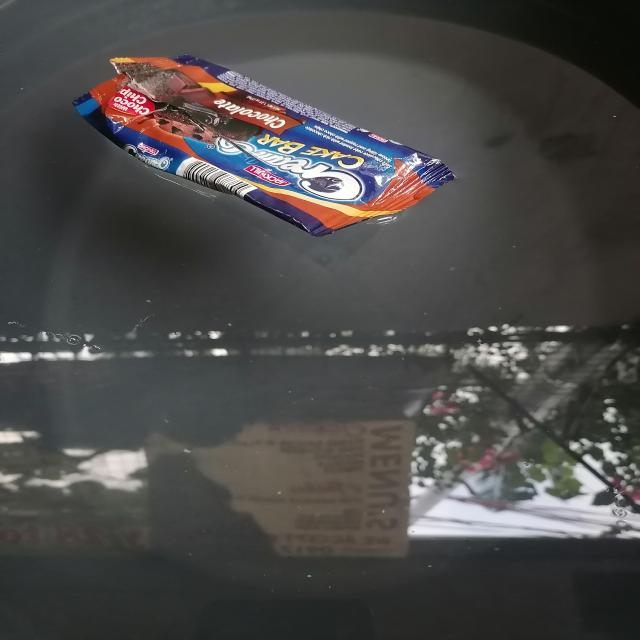Plastic Wrapper: (73, 55, 455, 236)
